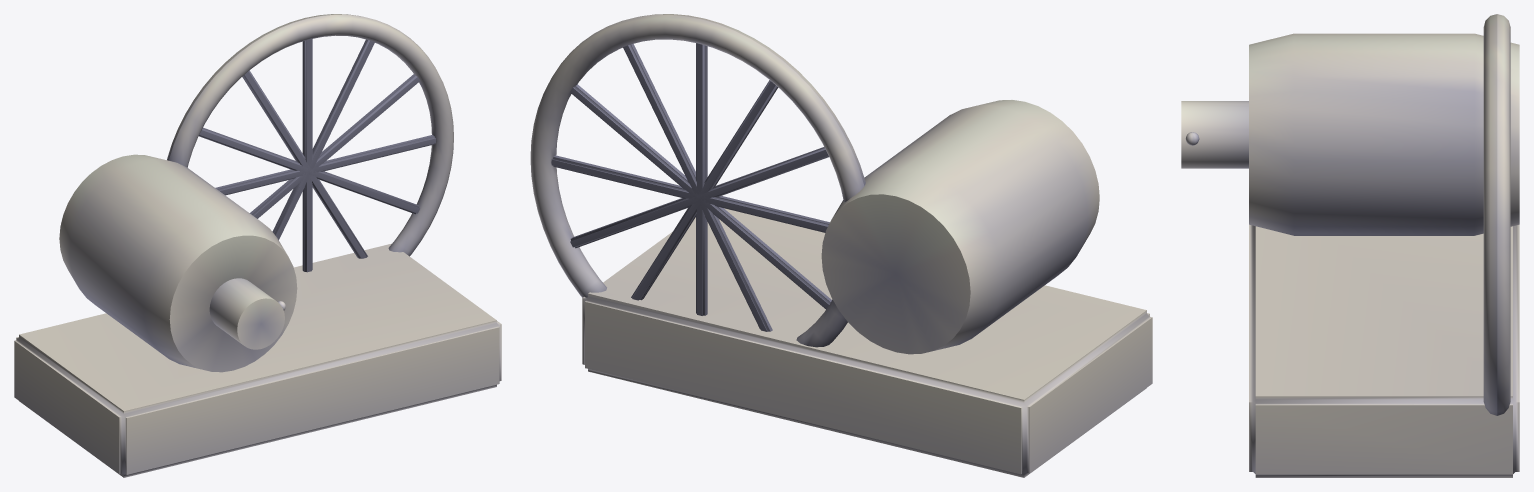
File: dynamo.glb
3 renders of one model, left to right at view 1: azimuth 30°, elevation 25°; view 2: azimuth 150°, elevation 25°; view 3: azimuth 270°, elevation 25°, orthographic. The views are drawn at different scales.
Parts seen in each view (by area): view 1: body; view 2: body; view 3: body.
Part boxes in pixels (box(x1,y1,x2,y2)): body: box(14, 14, 501, 477); body: box(530, 14, 1152, 477); body: box(1181, 14, 1519, 477).
Bounding box in the file's own units: 2.71 × 1.91 × 1.5.
